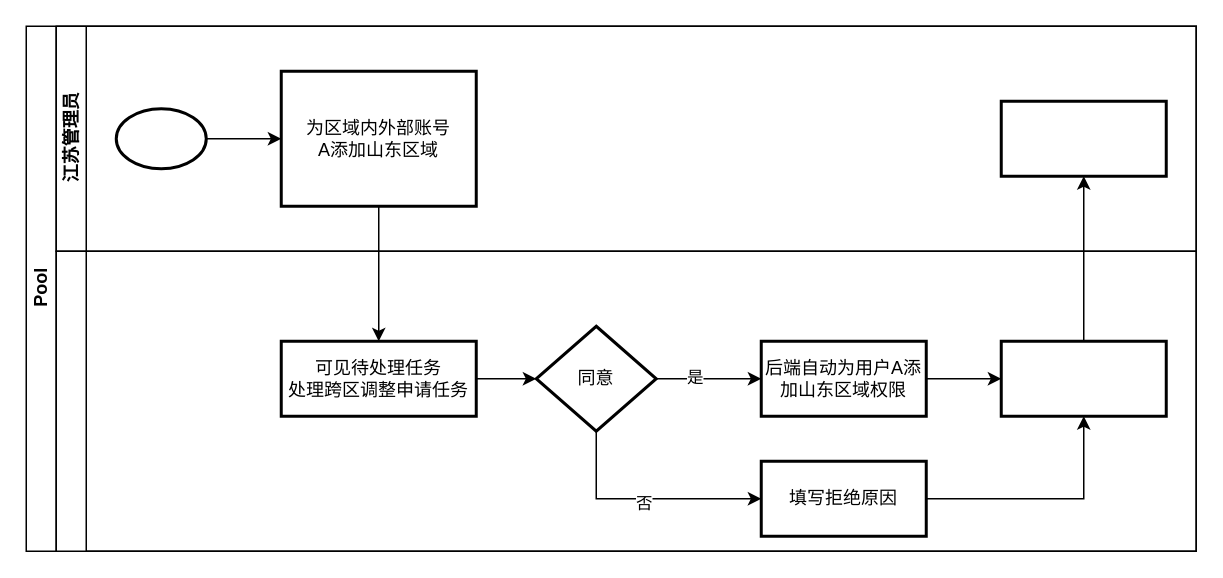
The diagram is 1223 pixels wide and 578 high, and some of its shapes have lost their labels. The shapes that lost their labels are listed below. From the top down, each one's box as (x1, y1, x2, y2) in pixels, then its label:
(114, 106, 207, 170): 开始
(999, 99, 1167, 177): 区域申请处理结果查看
(999, 339, 1167, 417): 形成申请单处理结果
(55, 250, 1196, 551): 山东管理员
